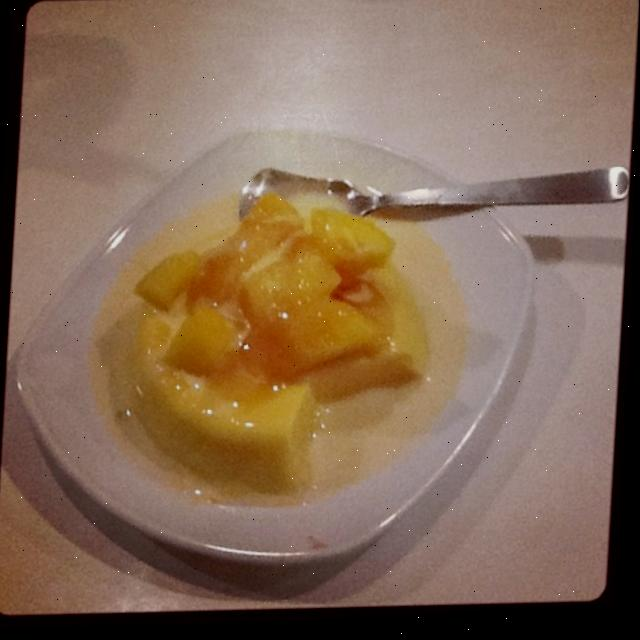蛋糕甜品: (82, 129, 501, 564)
